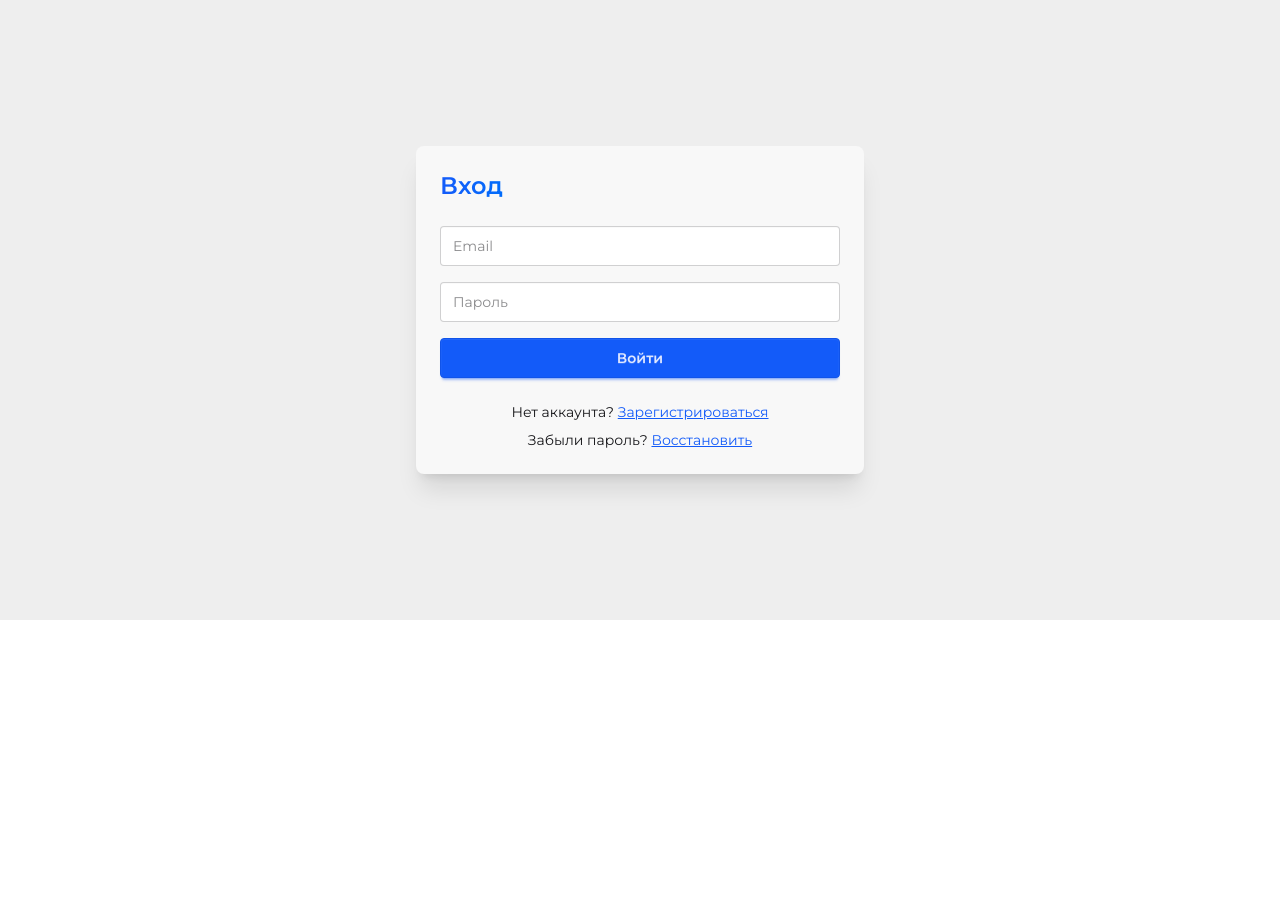
Scenario: LoginPage › не вызывает webLogin при невалидных данных
This screenshot has width=1280, height=900.
Note: Заполняем только пароль, email пустой
In the password field with placeholder "Пароль": (640,302) [440,282,840,322], type "password123"
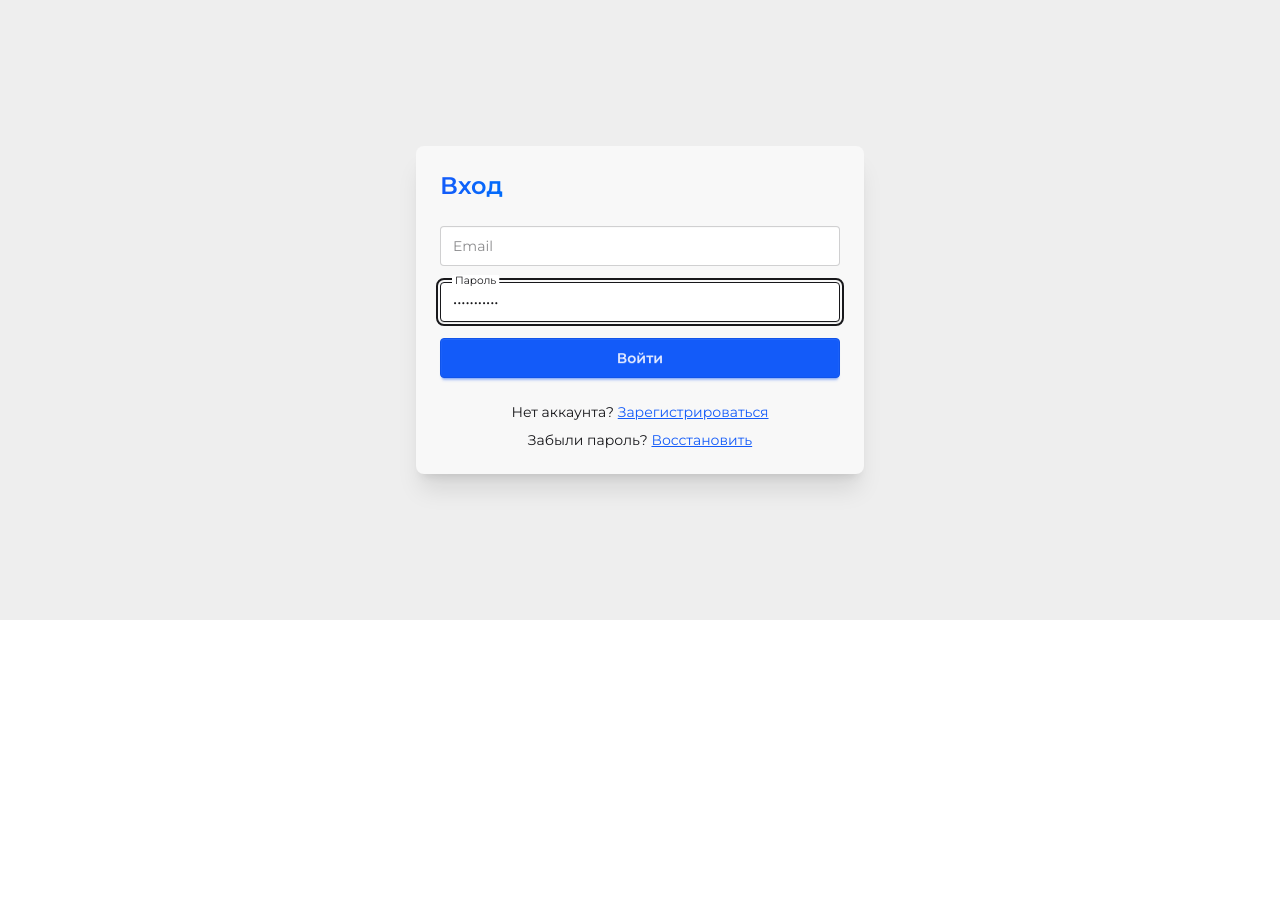
Click the button "Войти": (640,358) [440,338,840,378]
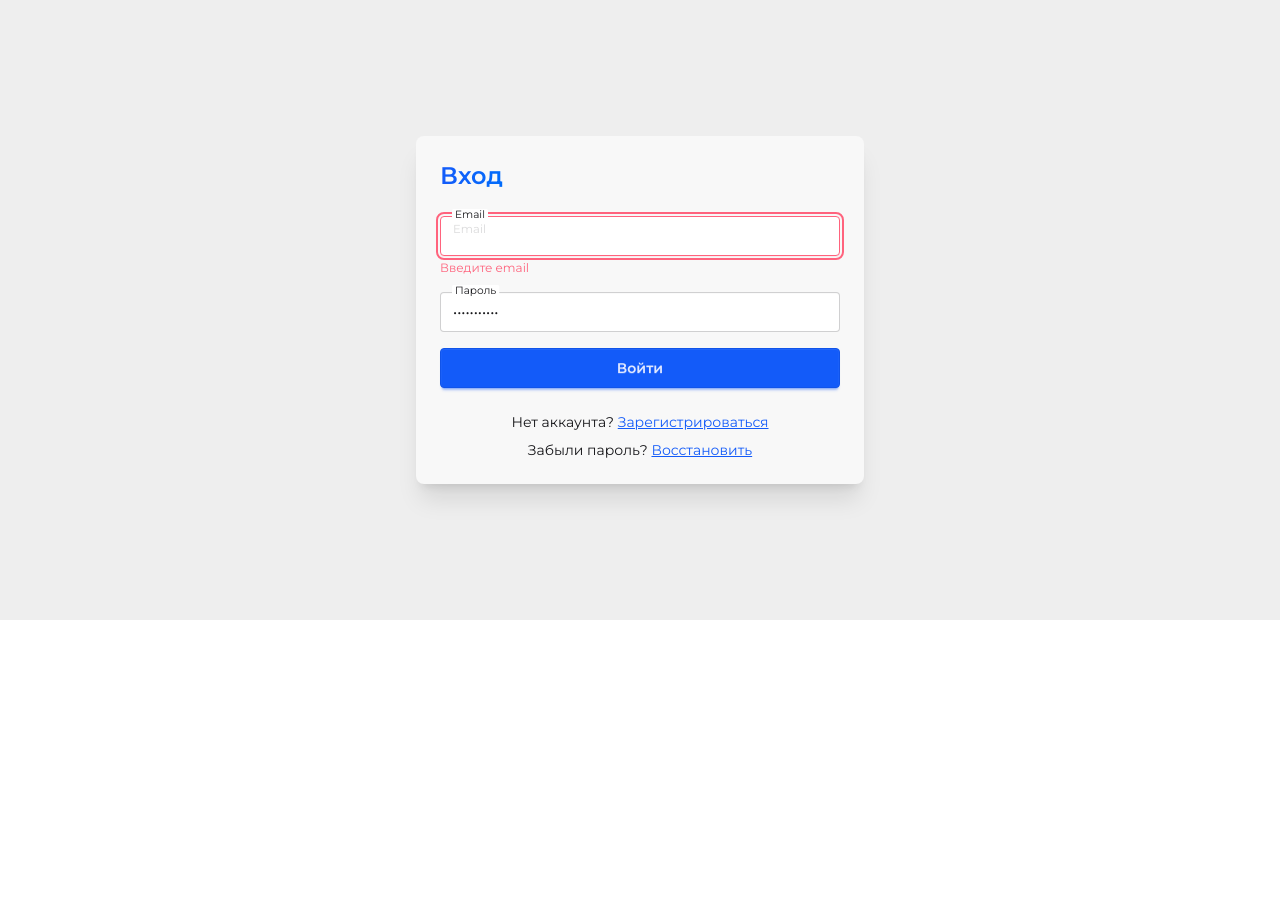
Check: the text "Введите email" is shown, box [440,260,529,275]
